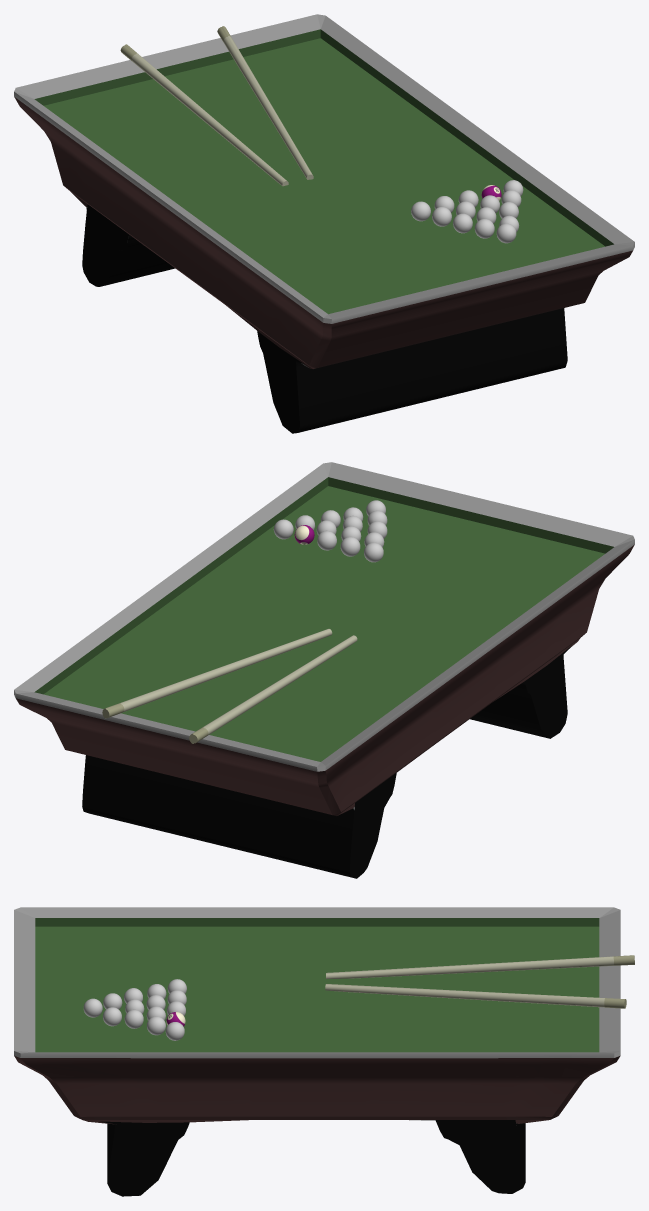
Rendered from Pool Table.fbx.
The picture shows the model from 3 angles, top to bottom: view 1: azimuth 30°, elevation 25°; view 2: azimuth 150°, elevation 25°; view 3: azimuth 270°, elevation 25°; orthographic projection. The views are drawn at different scales.
Visible parts, largest first — view 1: pCube1, pCylinder1, pCylinder2; view 2: pCube1, pCylinder2, pCylinder1; view 3: pCube1, pCylinder1, pCylinder2.
Boxes of the visible parts, bbox=[...] form: pCube1: bbox=[14, 14, 634, 433]; pCylinder1: bbox=[120, 44, 288, 186]; pCylinder2: bbox=[217, 26, 313, 179]; pCube1: bbox=[14, 462, 634, 878]; pCylinder2: bbox=[102, 629, 332, 718]; pCylinder1: bbox=[189, 635, 357, 743]; pCube1: bbox=[14, 907, 620, 1196]; pCylinder1: bbox=[326, 955, 634, 978]; pCylinder2: bbox=[325, 984, 626, 1008].
Bounding box in the file's own units: 10.37 × 5.47 × 18.64.
